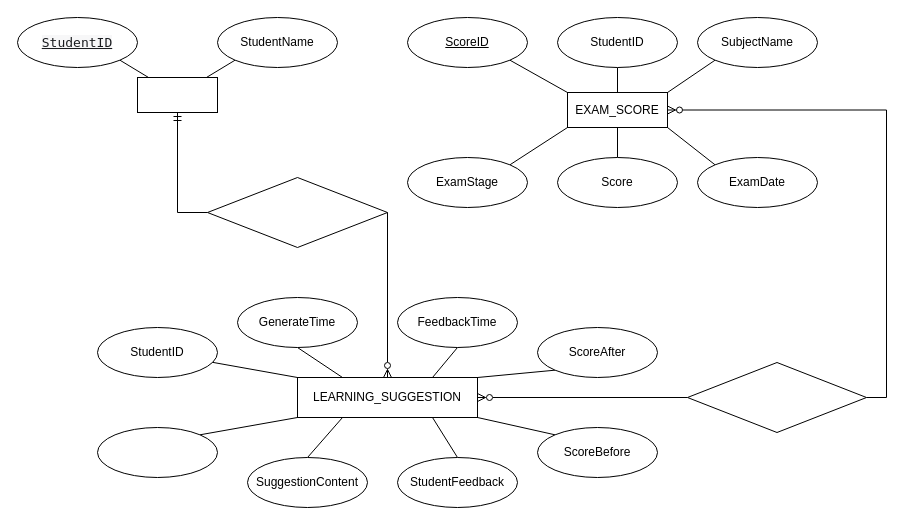
Image size: 912x525. Some labels were removed from this diagram. The shapes that lost their labels are listed below. From the top down, each one's box as (x1, y1, x2, y2) in pixels, then its label:
(136, 76, 218, 112): STUDENT
(206, 176, 388, 248): StudentReceiveSuggestion
(686, 362, 866, 432): SuggestionRelateScore
(96, 426, 218, 478): SuggestionID
